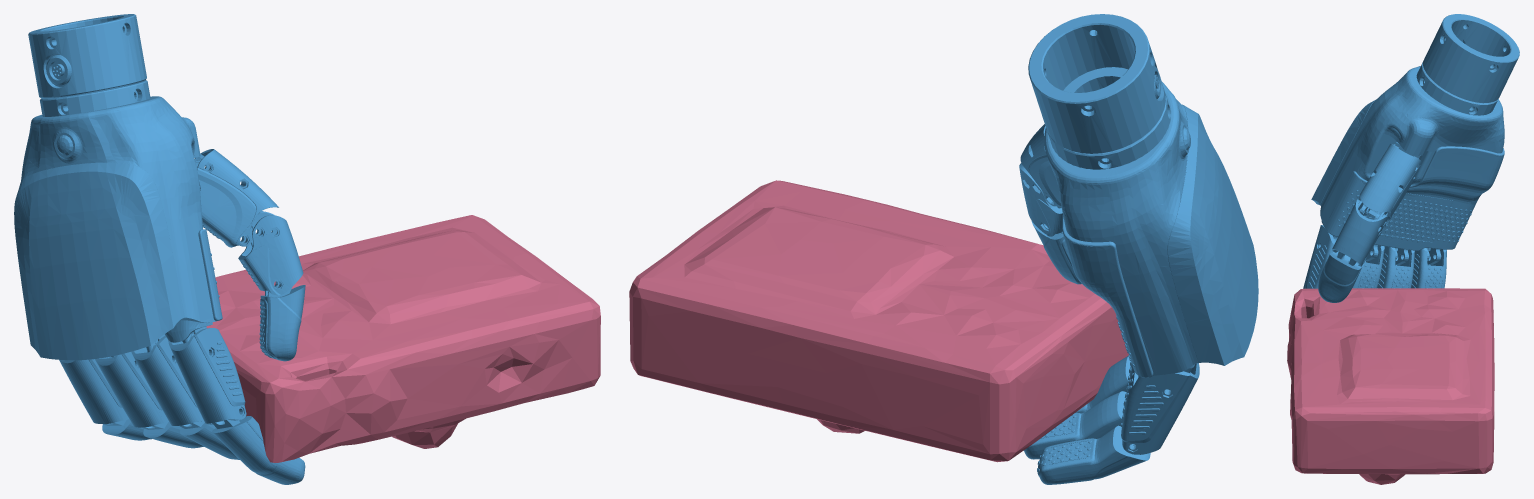
The picture shows the model from 3 angles, left to right: view 1: azimuth 30°, elevation 25°; view 2: azimuth 150°, elevation 25°; view 3: azimuth 270°, elevation 25°; orthographic projection. The views are drawn at different scales.
Visible parts, largest first — view 1: 1; view 2: 1; view 3: 1.
Boxes of the visible parts, x1=… form: 1: x1=14, y1=14, x2=600, y2=484; 1: x1=629, y1=14, x2=1258, y2=484; 1: x1=1287, y1=14, x2=1519, y2=484.
Size of the model in its own units: 0.2594 by 0.2302 by 0.1374.
